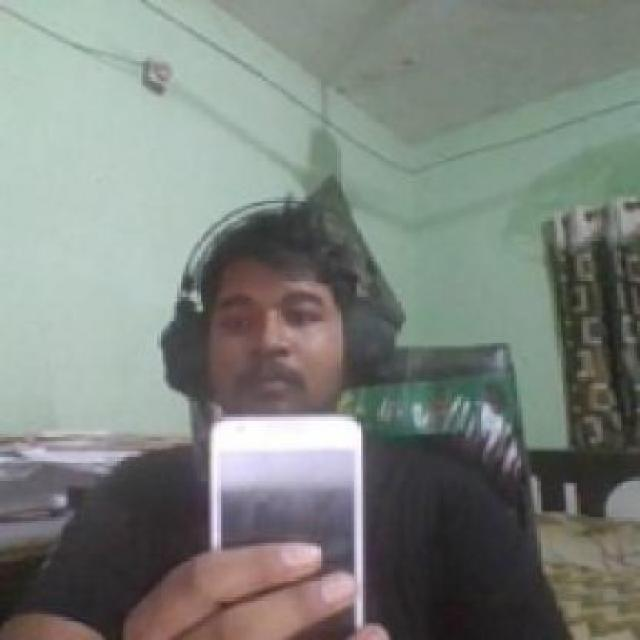Phone: (207, 414, 362, 640)
